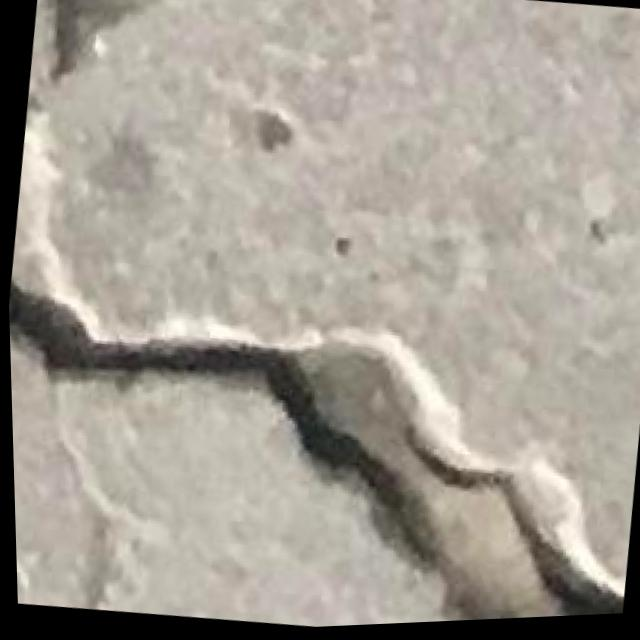Crack: (6, 246, 640, 640), (29, 0, 172, 101)
